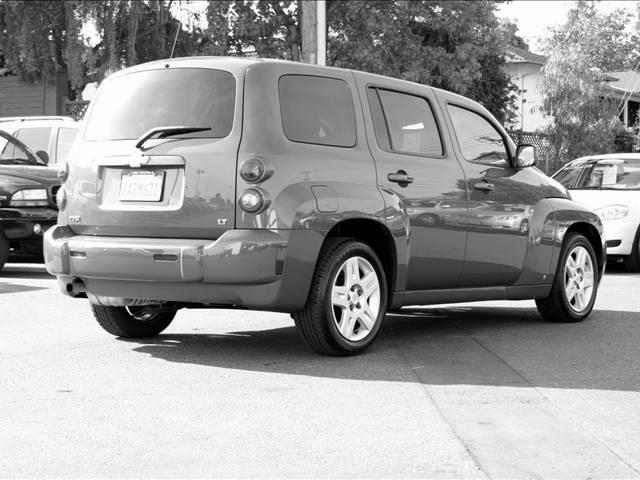car: (42, 57, 608, 356)
